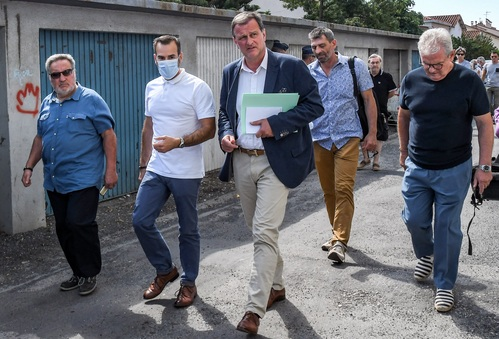with_mask: (153, 48, 182, 82)
without_mask: (48, 60, 80, 99), (232, 24, 265, 59), (422, 52, 455, 82), (310, 39, 333, 63), (367, 55, 381, 75)
